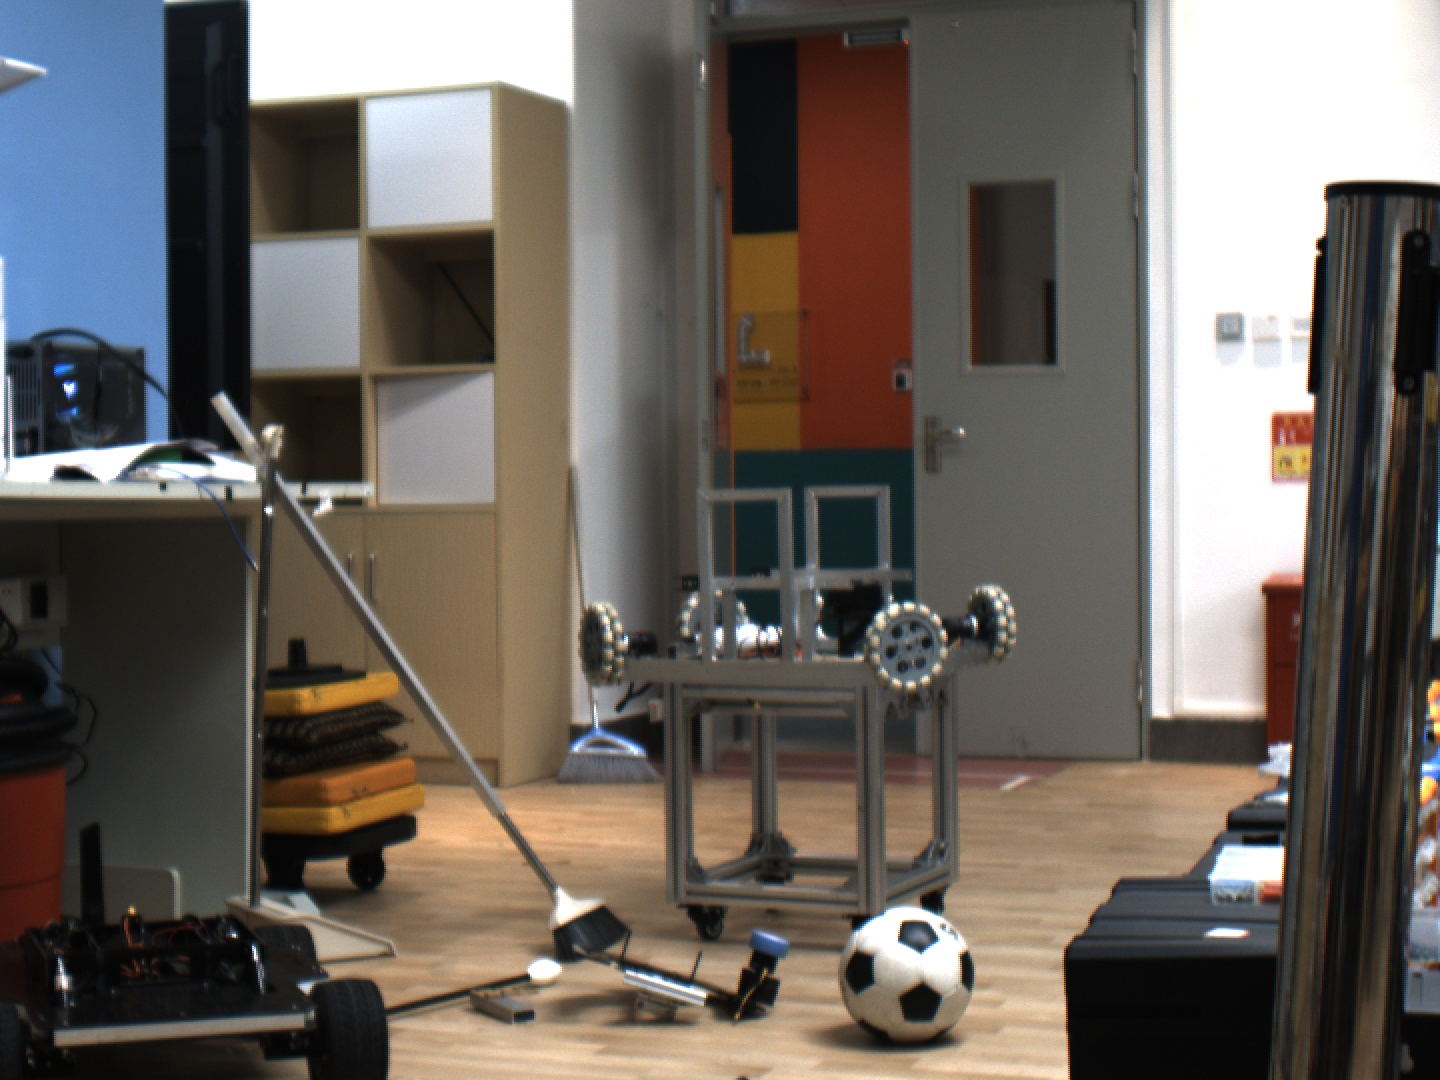ball: (829, 902, 997, 1057)
